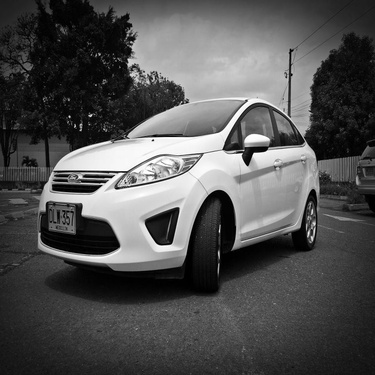car: (22, 93, 329, 303)
